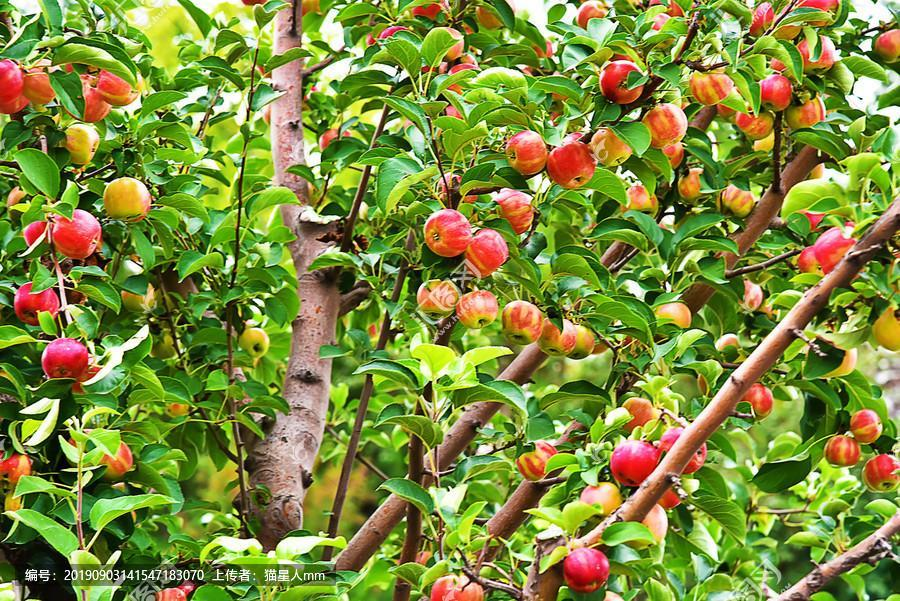apple: (815, 228, 870, 278), (50, 209, 102, 260), (611, 440, 662, 488), (536, 317, 595, 358), (423, 210, 470, 258), (103, 175, 152, 221), (546, 143, 596, 188), (600, 59, 649, 103), (646, 104, 690, 152), (42, 337, 90, 381), (467, 229, 510, 277), (14, 281, 60, 325), (564, 548, 611, 591), (502, 298, 547, 341), (507, 129, 549, 175), (794, 32, 837, 75), (456, 288, 499, 329), (591, 130, 634, 169), (692, 67, 733, 106), (580, 480, 623, 516), (429, 573, 484, 601), (65, 122, 101, 164), (97, 71, 140, 106), (864, 454, 898, 492), (561, 322, 596, 357), (237, 325, 274, 358), (873, 305, 899, 351), (1, 452, 35, 487), (826, 433, 861, 466), (850, 408, 883, 443), (760, 73, 793, 108), (623, 180, 657, 213), (720, 185, 756, 216), (741, 384, 774, 417), (623, 397, 658, 428), (737, 111, 774, 138), (657, 301, 692, 329), (874, 28, 899, 61), (679, 168, 703, 199), (796, 246, 821, 273)
